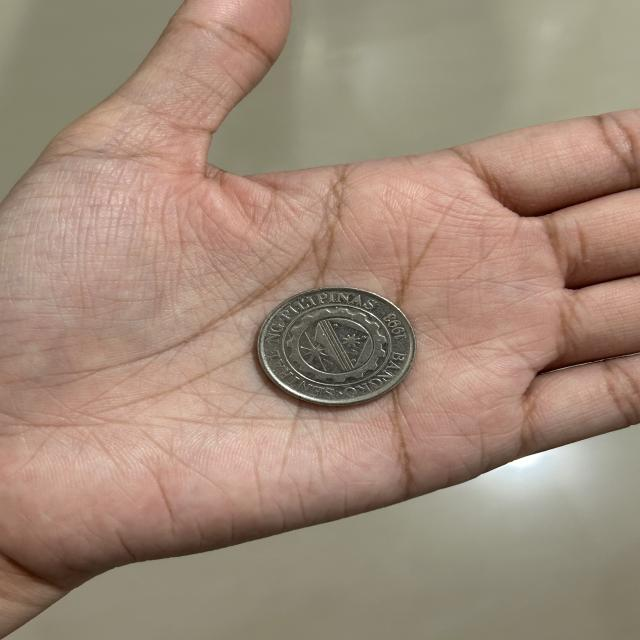1_Old_Back: (278, 300, 395, 393)
